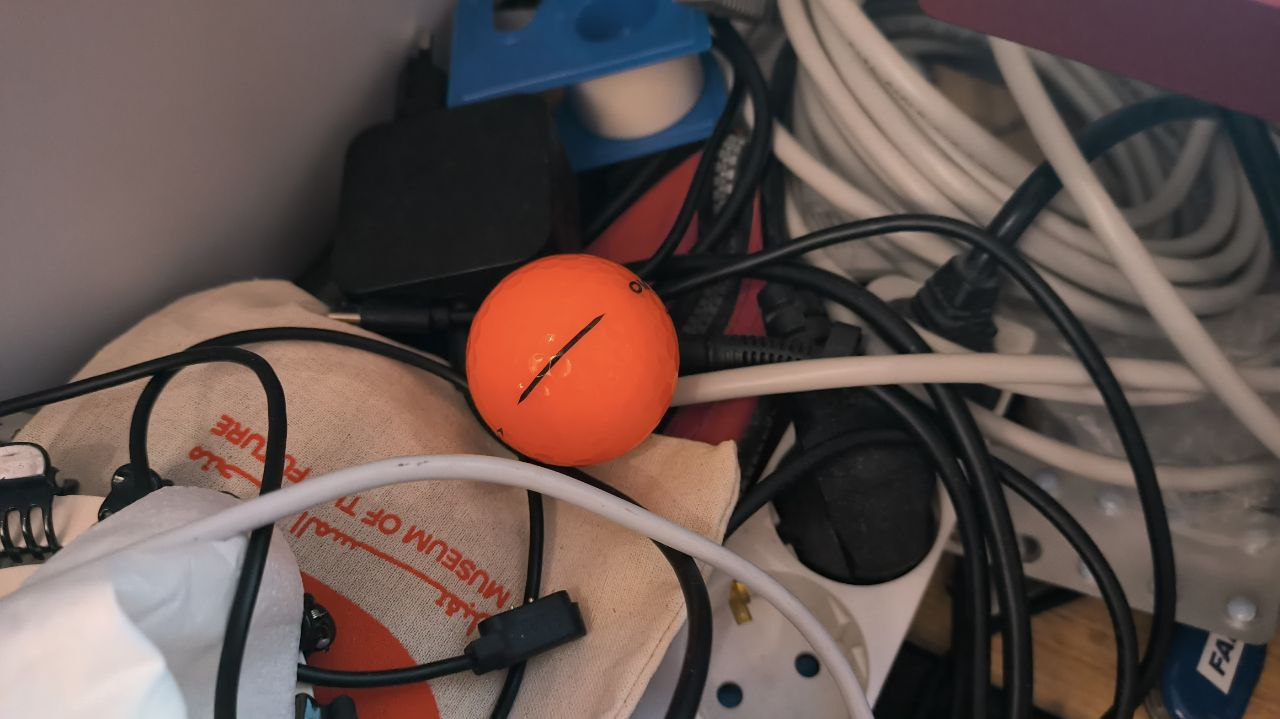orange_ball: (464, 251, 681, 468)
